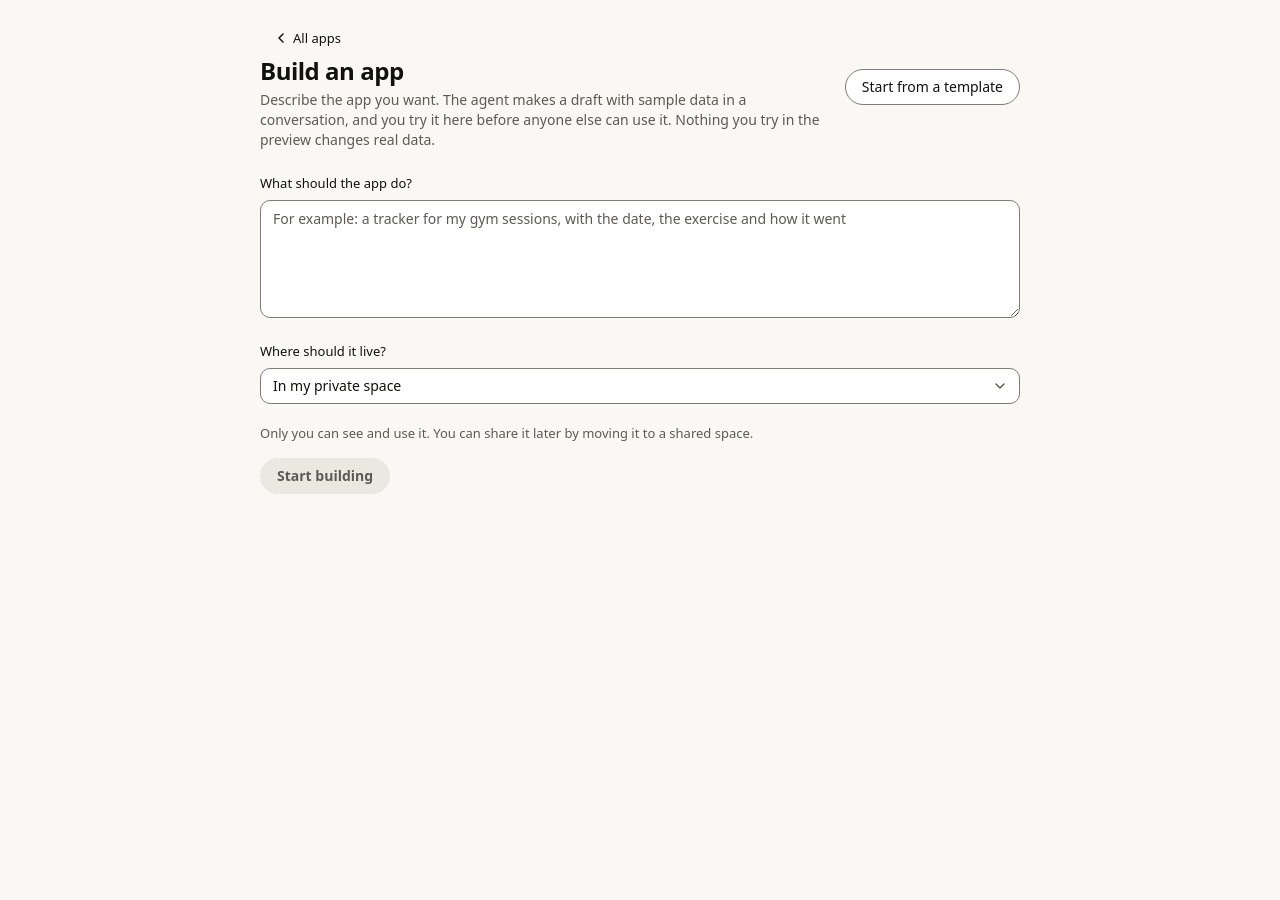
Scenario: a new app starts in the private space unless a shared one is chosen, and the agent is asked to build a draft
Expected: the dropdown labelled "Where should it live?" shows "In my private space", [260,368,1020,404]
Expected: the button "Start building" is disabled, [260,458,390,494]
Replace the text in the text box labelled "What should the app do?" with "An expense tracker". click: (640, 259)
box: [260,200,1020,318]
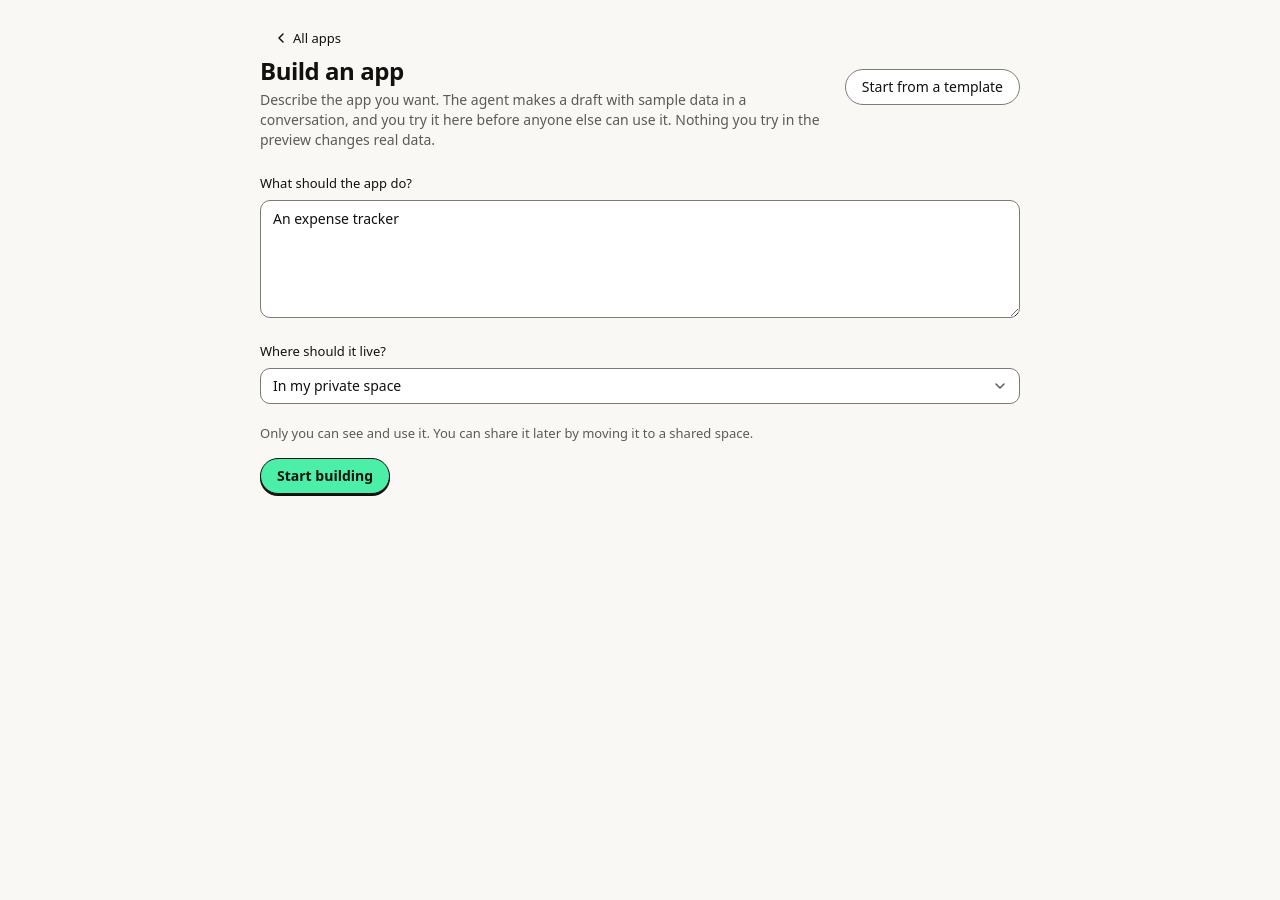
Click the button "Start building". click: click(325, 476)
box: [260,458,390,494]
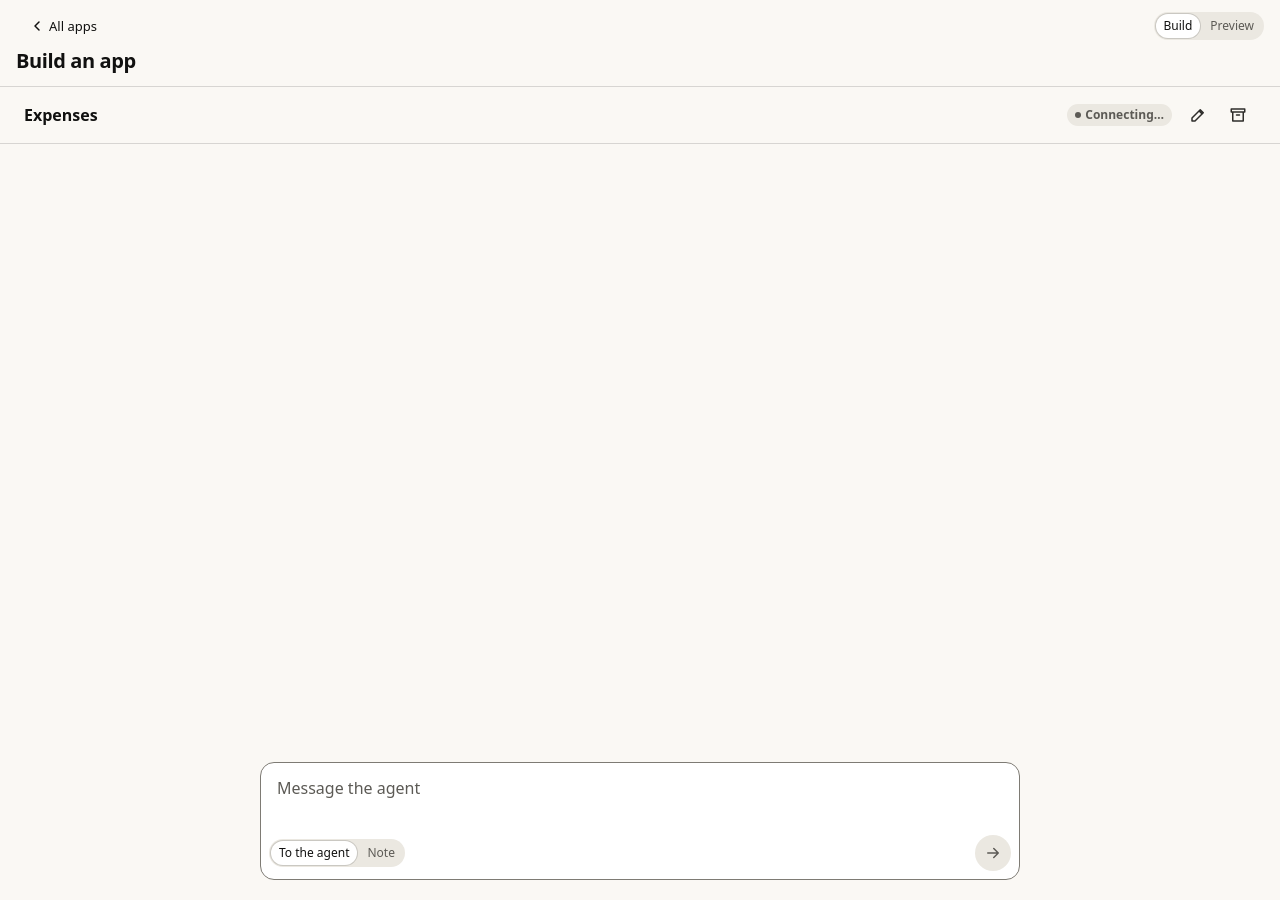
Expected: the element named "Builder view" is shown, [1154,12,1264,40]
